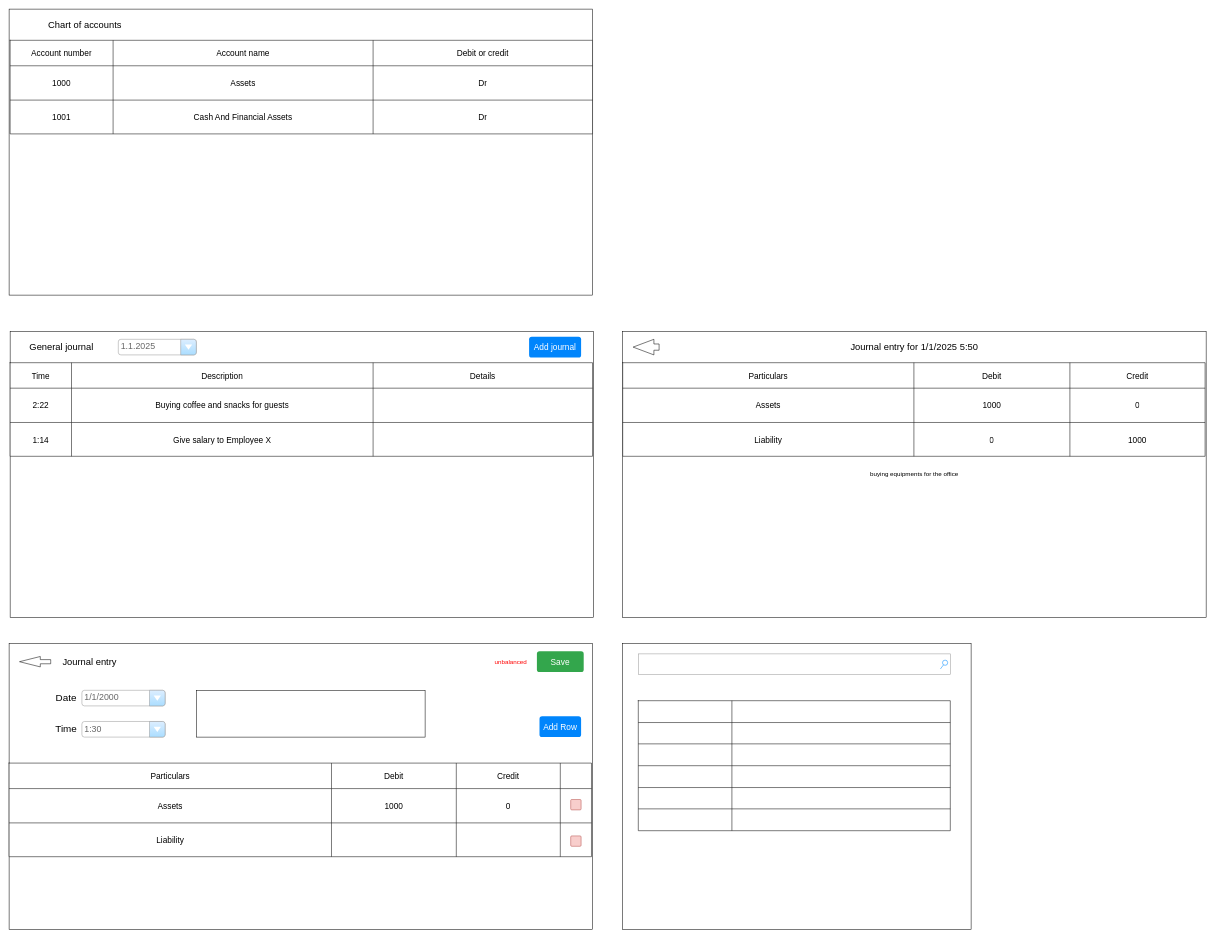
Image size: 1215x939. Some labels were removed from this diagram. Here are the shapes that lost their labels. From the top down, the centre of each, then its label:
At pixel 794 664: "search with account name or code".
At pixel 310 713: "This is a short description for journal entry.".
